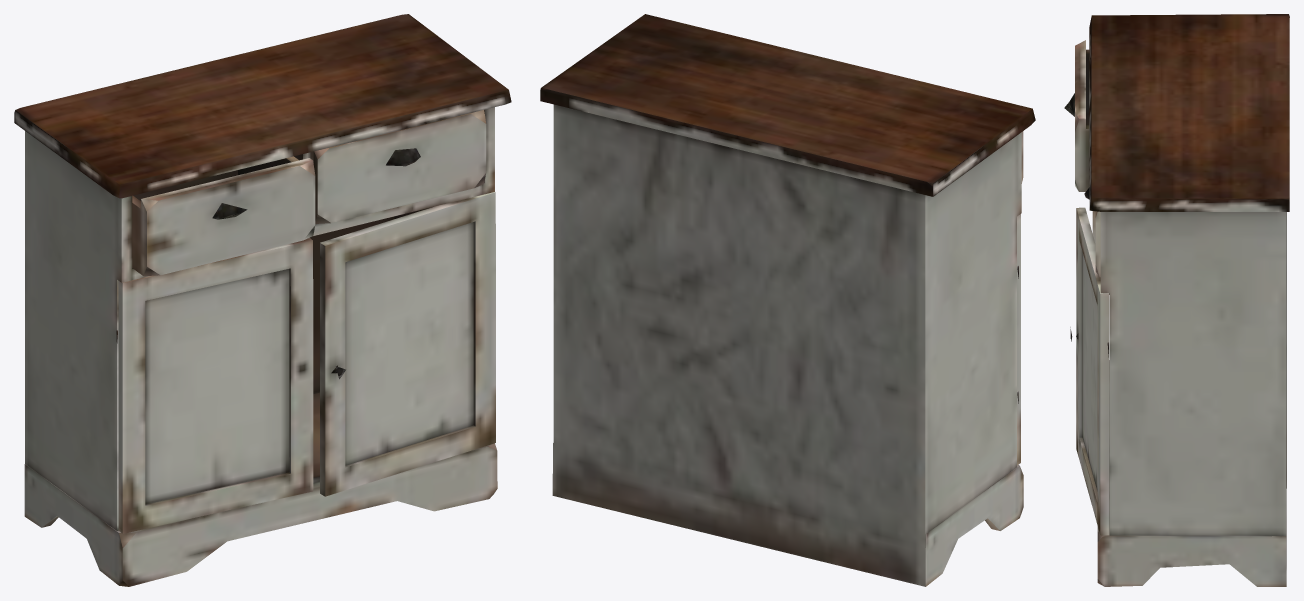
The model's file is cabinet.glb.
3 renders of one model, left to right at view 1: azimuth 30°, elevation 25°; view 2: azimuth 150°, elevation 25°; view 3: azimuth 270°, elevation 25°, orthographic. The views are drawn at different scales.
Parts seen in each view (by area): view 1: painted_wooden_cabinet; view 2: painted_wooden_cabinet; view 3: painted_wooden_cabinet.
Part boxes in pixels (x1,y1,x2,y2): painted_wooden_cabinet: [14, 14, 511, 586]; painted_wooden_cabinet: [540, 14, 1035, 586]; painted_wooden_cabinet: [1064, 14, 1289, 586].
Bounding box in the file's own units: 1.19 × 1.18 × 0.6144.
Materials: 1 (1 with a texture image).
